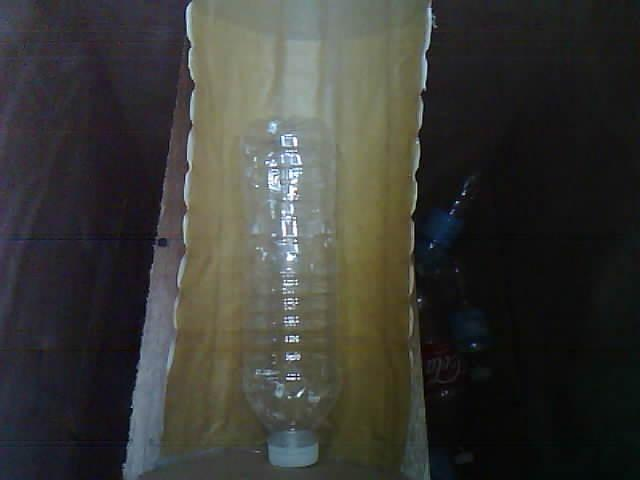small_bottle: (222, 102, 373, 480)
